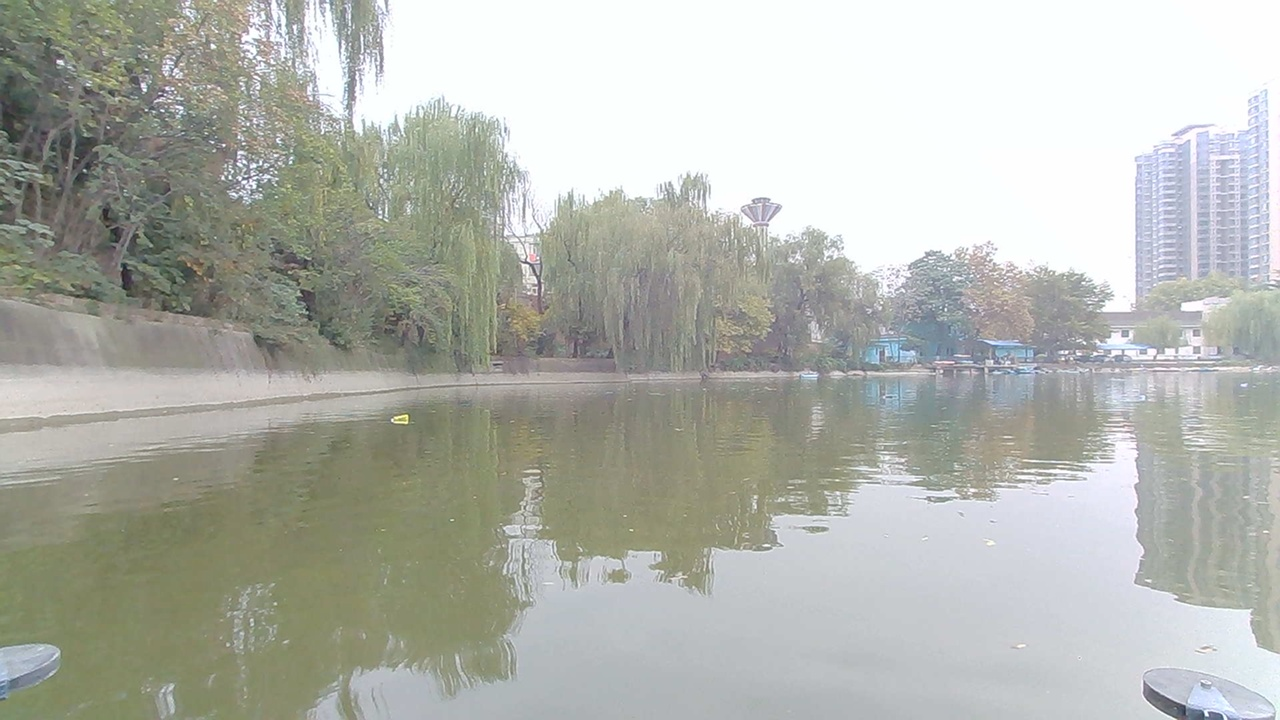bottle: (386, 409, 420, 432), (877, 388, 906, 403)
